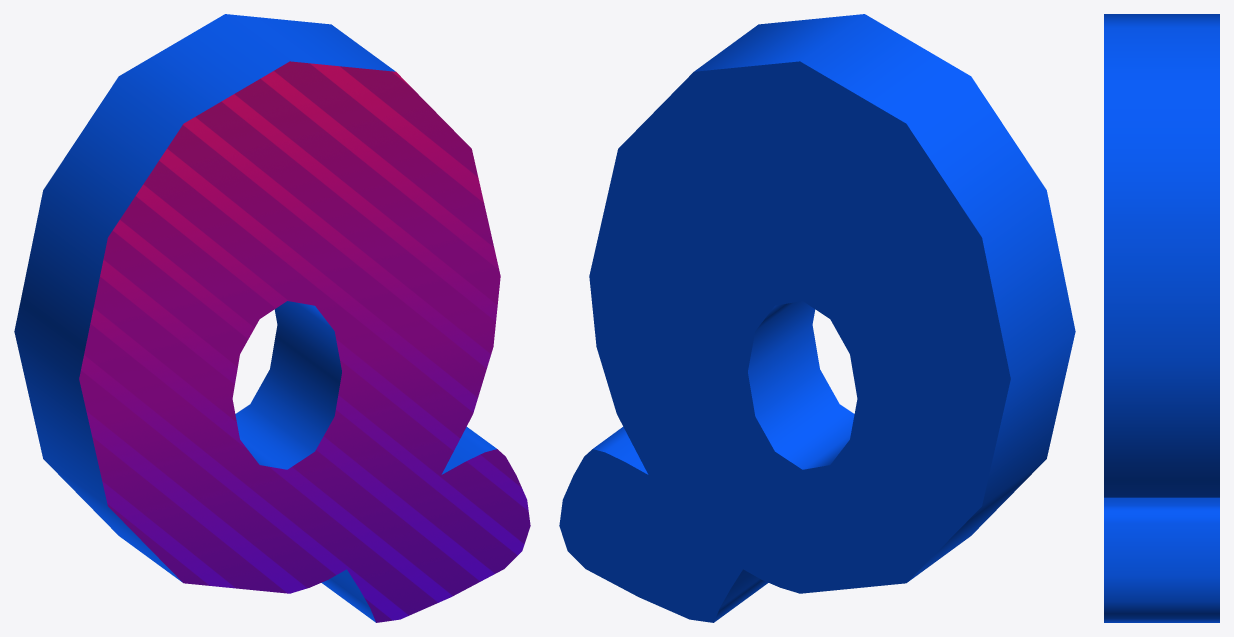
3 renders of one model, left to right at view 1: azimuth 30°, elevation 25°; view 2: azimuth 150°, elevation 25°; view 3: azimuth 270°, elevation 25°, orthographic. The views are drawn at different scales.
Parts seen in each view (by area): view 1: Q; view 2: Q; view 3: Q.
Boxes of the visible parts, x1,y1,x2,y2 form: Q: [14, 14, 530, 622]; Q: [559, 14, 1075, 622]; Q: [1104, 14, 1219, 622].
Size of the model in its own units: 80.52 by 99.72 by 20.
Materials: 2 (1 with a texture image).
